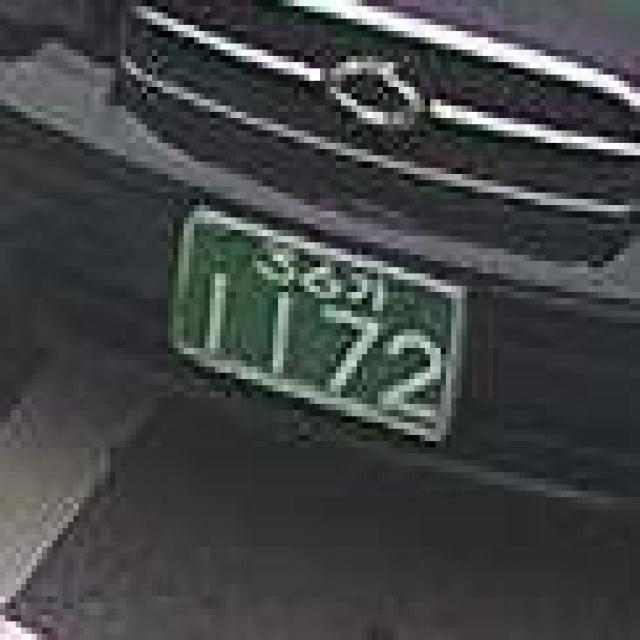illegal_plate: (161, 188, 479, 481)
